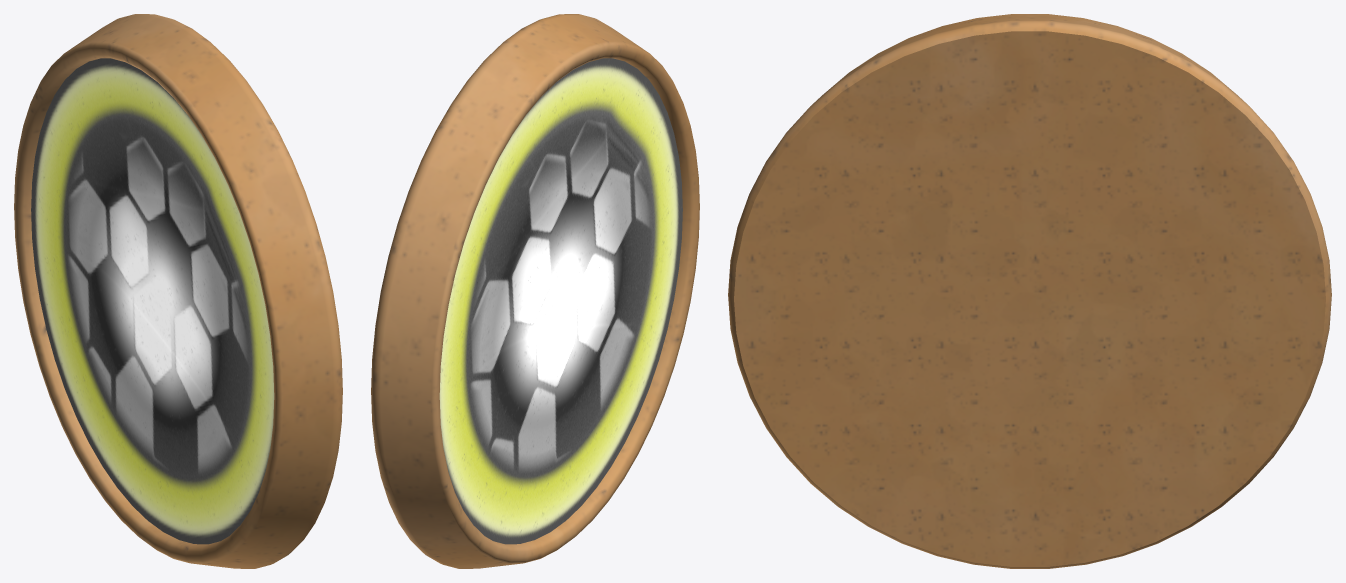
The model's file is SM_GamesSigns_04.fbx.
3 views of the same model, side by side, from view 1: azimuth 30°, elevation 25°; view 2: azimuth 150°, elevation 25°; view 3: azimuth 270°, elevation 25° (orthographic). The views are drawn at different scales.
Visible parts, largest first — view 1: SM_GamesSigns_04_LOD0; view 2: SM_GamesSigns_04_LOD0; view 3: SM_GamesSigns_04_LOD0.
Part boxes in pixels (box(x1,y1,x2,y2)): SM_GamesSigns_04_LOD0: box(14, 14, 342, 568); SM_GamesSigns_04_LOD0: box(371, 14, 699, 568); SM_GamesSigns_04_LOD0: box(728, 14, 1331, 568).
Bounding box in the file's own units: 11.97 × 102 × 102.
1 material, 1 textured.
